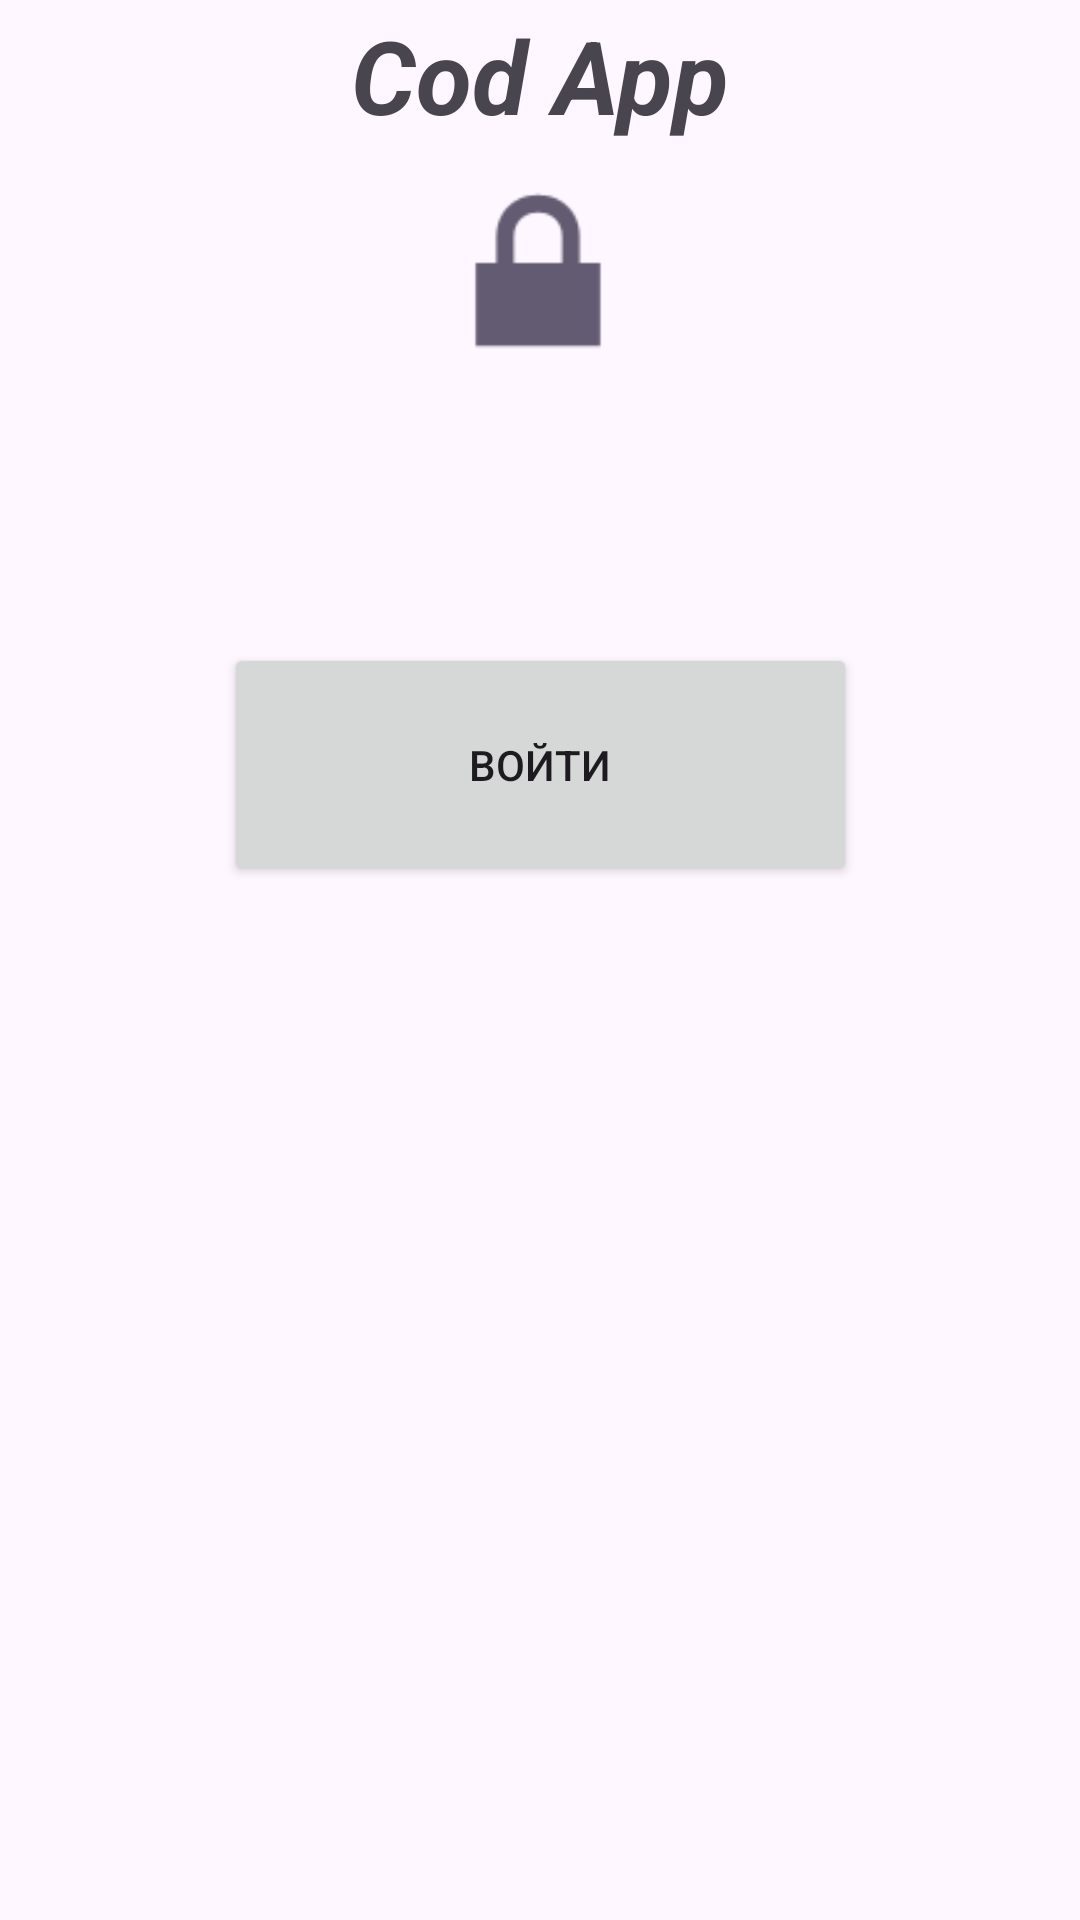

Screen size 1080px×1920px. Icon name, then its center in pixels as [x,y]:
lock: [538,270]
